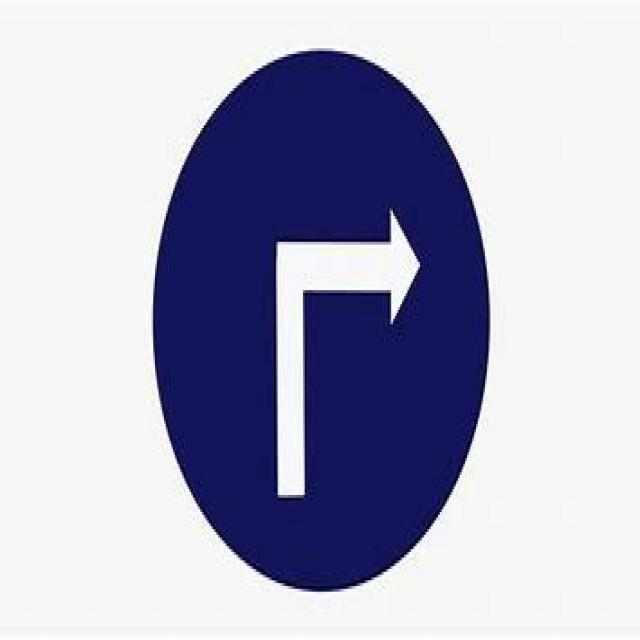COMPULSARY_TURN_RIGHT_AHEAD: (150, 45, 488, 589)
